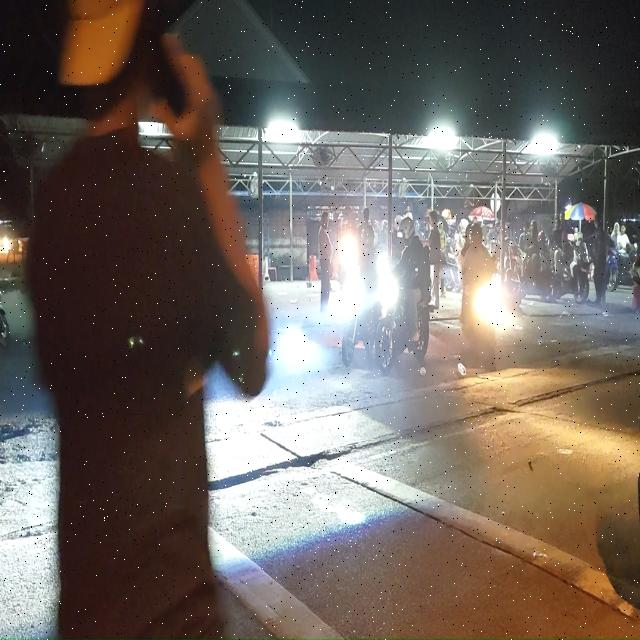Golongan II: (375, 278, 433, 373), (461, 274, 513, 371), (341, 272, 382, 366), (552, 240, 590, 303), (510, 246, 553, 301), (336, 229, 359, 289), (610, 246, 637, 290), (442, 239, 462, 292)
